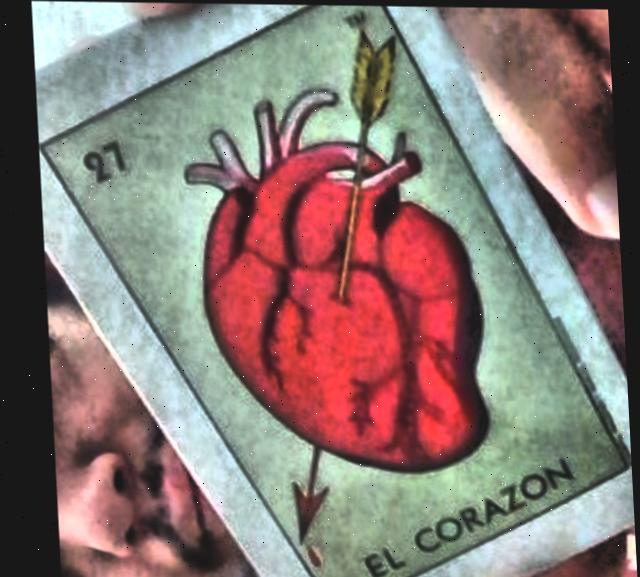El Corazon: (41, 4, 621, 577)
